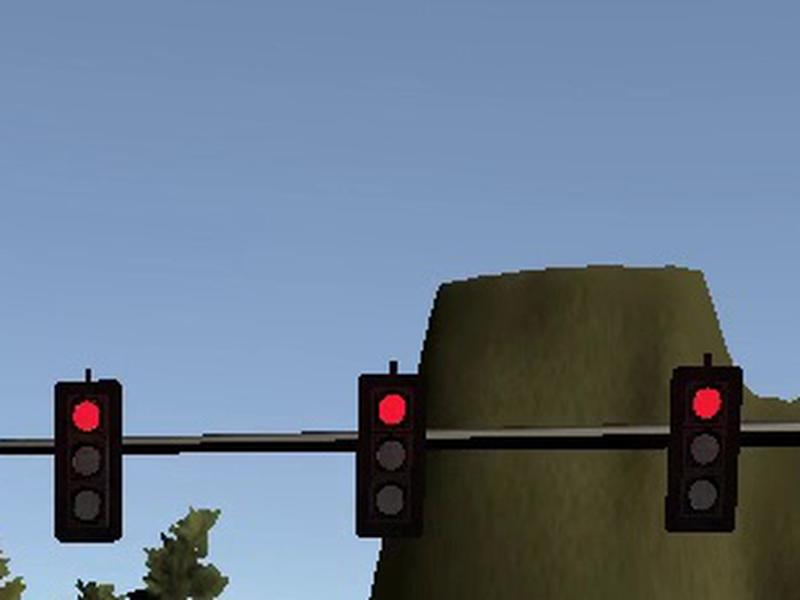Red: (664, 365, 741, 531), (54, 380, 123, 543), (356, 373, 424, 538)
